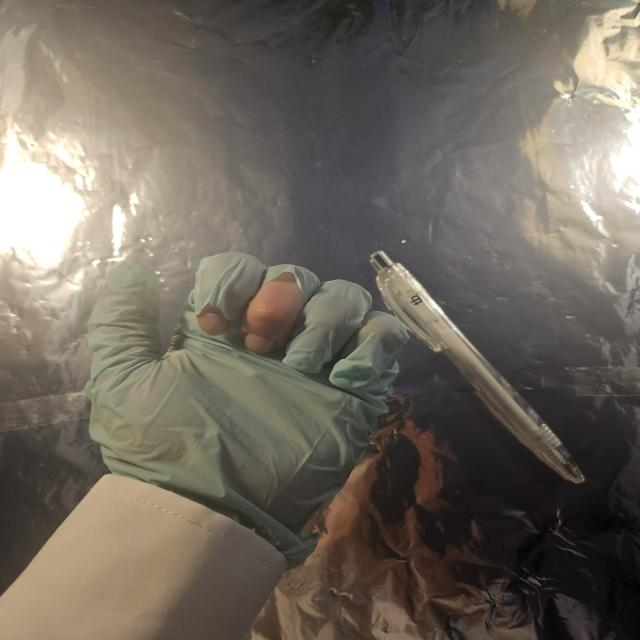gloves_damaged: (82, 251, 414, 569)
